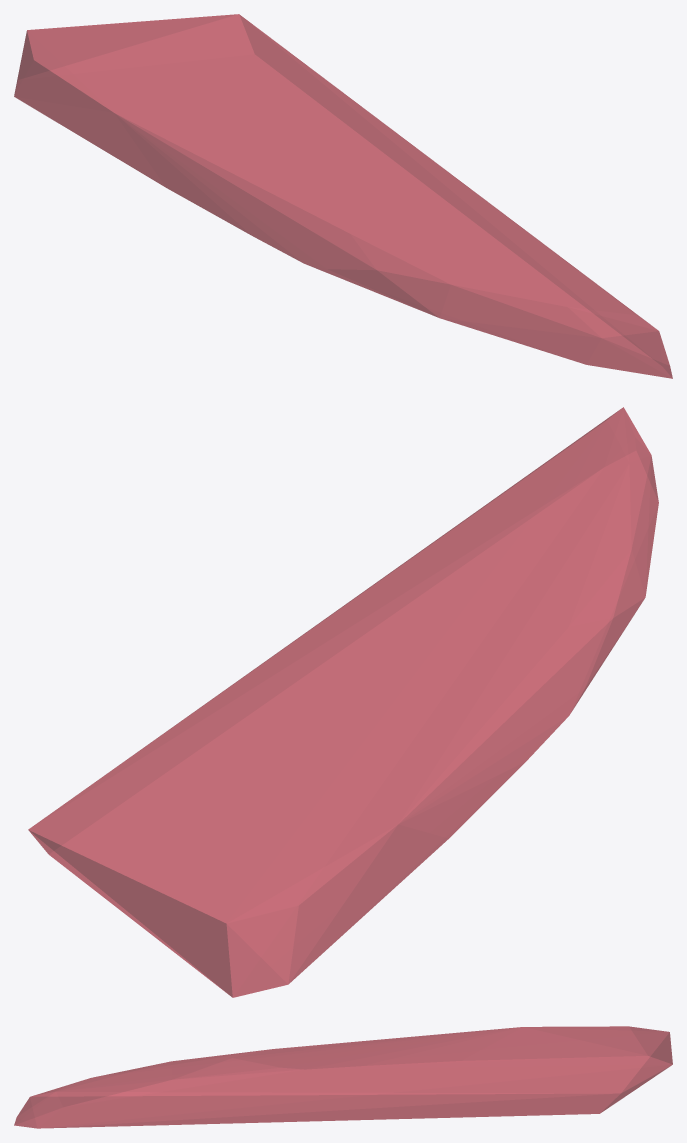
3 views of the same model, one above another, from view 1: azimuth 30°, elevation 25°; view 2: azimuth 150°, elevation 25°; view 3: azimuth 270°, elevation 25° (orthographic). The views are drawn at different scales.
Parts seen in each view (by area): view 1: Shape_IndexedFaceSet.062_Shape_IndexedFaceSet.3639; view 2: Shape_IndexedFaceSet.062_Shape_IndexedFaceSet.3639; view 3: Shape_IndexedFaceSet.062_Shape_IndexedFaceSet.3639.
Boxes of the visible parts, x1,y1,x2,y2 form: Shape_IndexedFaceSet.062_Shape_IndexedFaceSet.3639: [14, 14, 672, 378]; Shape_IndexedFaceSet.062_Shape_IndexedFaceSet.3639: [28, 407, 658, 997]; Shape_IndexedFaceSet.062_Shape_IndexedFaceSet.3639: [14, 1026, 672, 1128].
Bounding box in the file's own units: 0.2889 × 0.0654 × 1.12.
